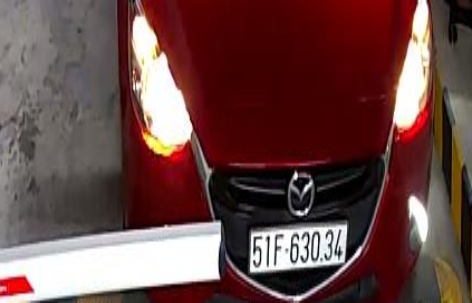plate: (247, 216, 351, 274)
